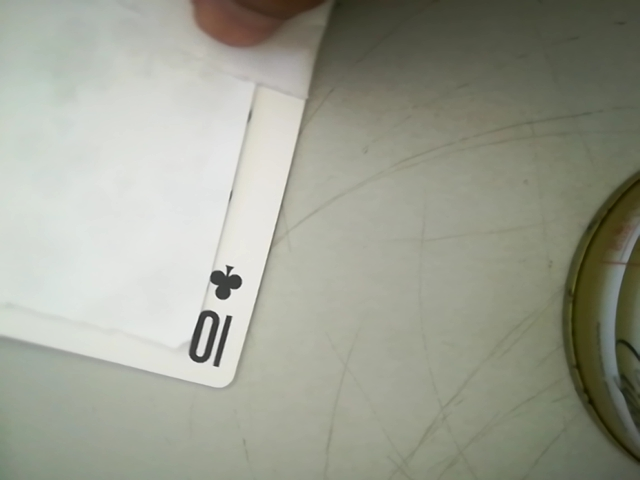mh 10: (185, 255, 256, 376)
